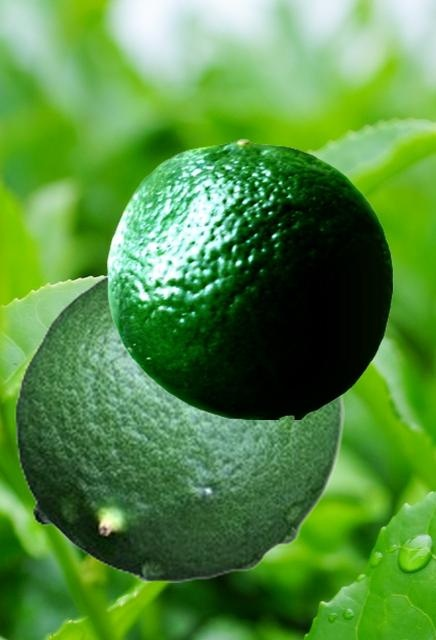calamansi: (14, 271, 343, 581), (107, 138, 392, 418)
